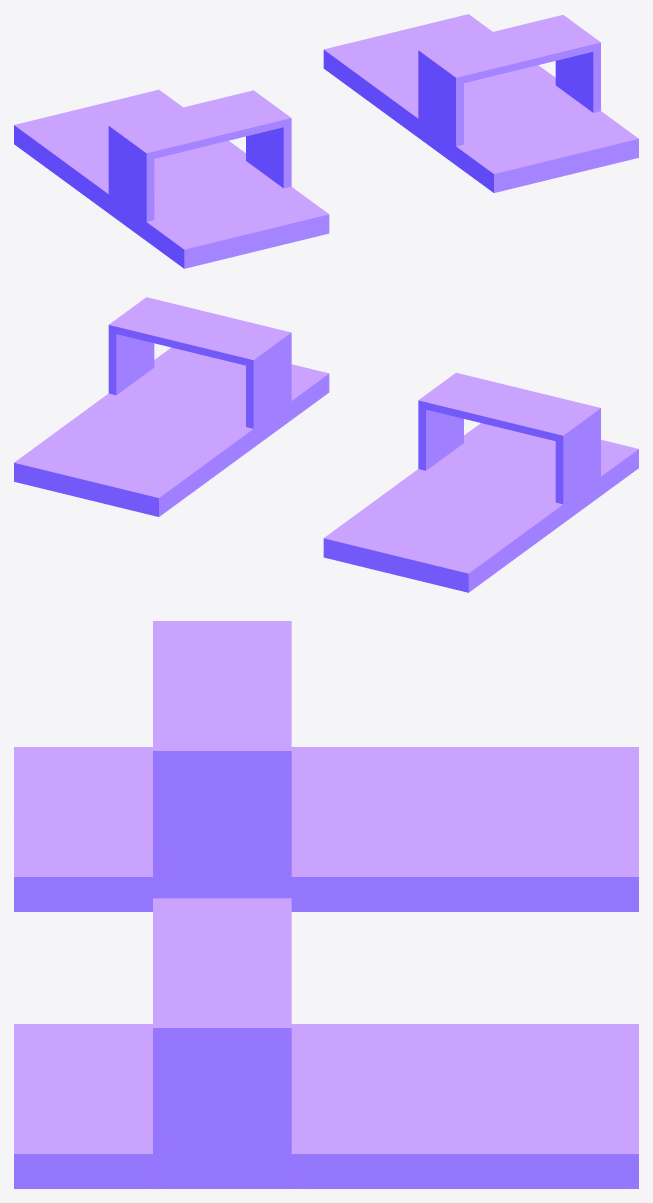
File: slides_purple.glb
The picture shows the model from 3 angles, top to bottom: view 1: azimuth 30°, elevation 25°; view 2: azimuth 150°, elevation 25°; view 3: azimuth 270°, elevation 25°; orthographic projection. The views are drawn at different scales.
Parts seen in each view (by area): view 1: flops.002; view 2: flops.002; view 3: flops.002.
Boxes of the visible parts, x1=… form: flops.002: x1=14, y1=14, x2=638, y2=268; flops.002: x1=14, y1=297, x2=638, y2=592; flops.002: x1=14, y1=621, x2=638, y2=1188.
Size of the model in its own units: 2.77 by 0.5119 by 1.8.
Materials: 1 (1 with a texture image).
